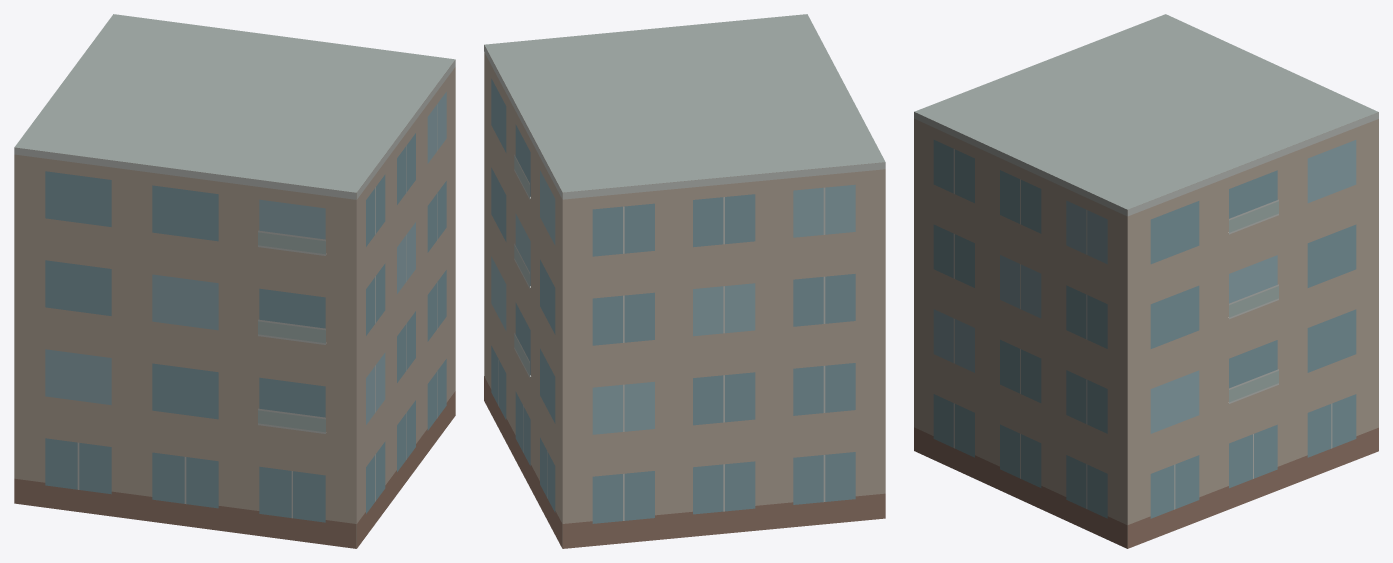
Rendered from residential-37ab4c58-57a1-4b10-a958-cc8f1f20c0cd.glb.
3 renders of one model, left to right at view 1: azimuth 30°, elevation 25°; view 2: azimuth 150°, elevation 25°; view 3: azimuth 270°, elevation 25°, orthographic. The views are drawn at different scales.
Visible parts, largest first — view 1: residential-37ab4c58-57a1-4b10-a958-cc8f1f20c0cd.tmp; view 2: residential-37ab4c58-57a1-4b10-a958-cc8f1f20c0cd.tmp; view 3: residential-37ab4c58-57a1-4b10-a958-cc8f1f20c0cd.tmp.
Boxes of the visible parts, x1,y1,x2,y2 form: residential-37ab4c58-57a1-4b10-a958-cc8f1f20c0cd.tmp: (14, 14, 455, 548); residential-37ab4c58-57a1-4b10-a958-cc8f1f20c0cd.tmp: (484, 14, 885, 548); residential-37ab4c58-57a1-4b10-a958-cc8f1f20c0cd.tmp: (914, 14, 1378, 548).
Bounding box in the file's own units: 15.11 × 12.2 × 15.16.
